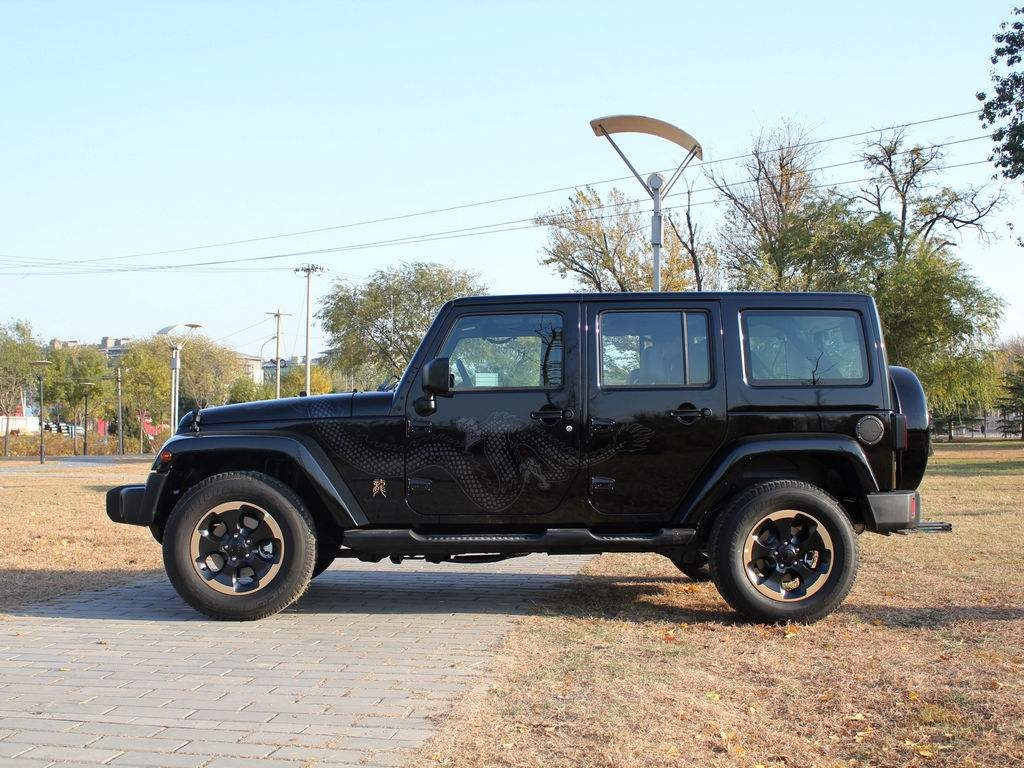jeep: (156, 261, 935, 638)
